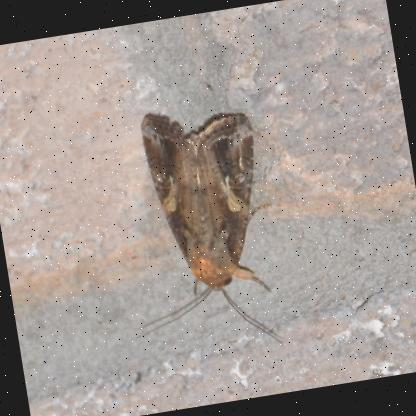Fall Armyworm Moth: (97, 92, 298, 368)
